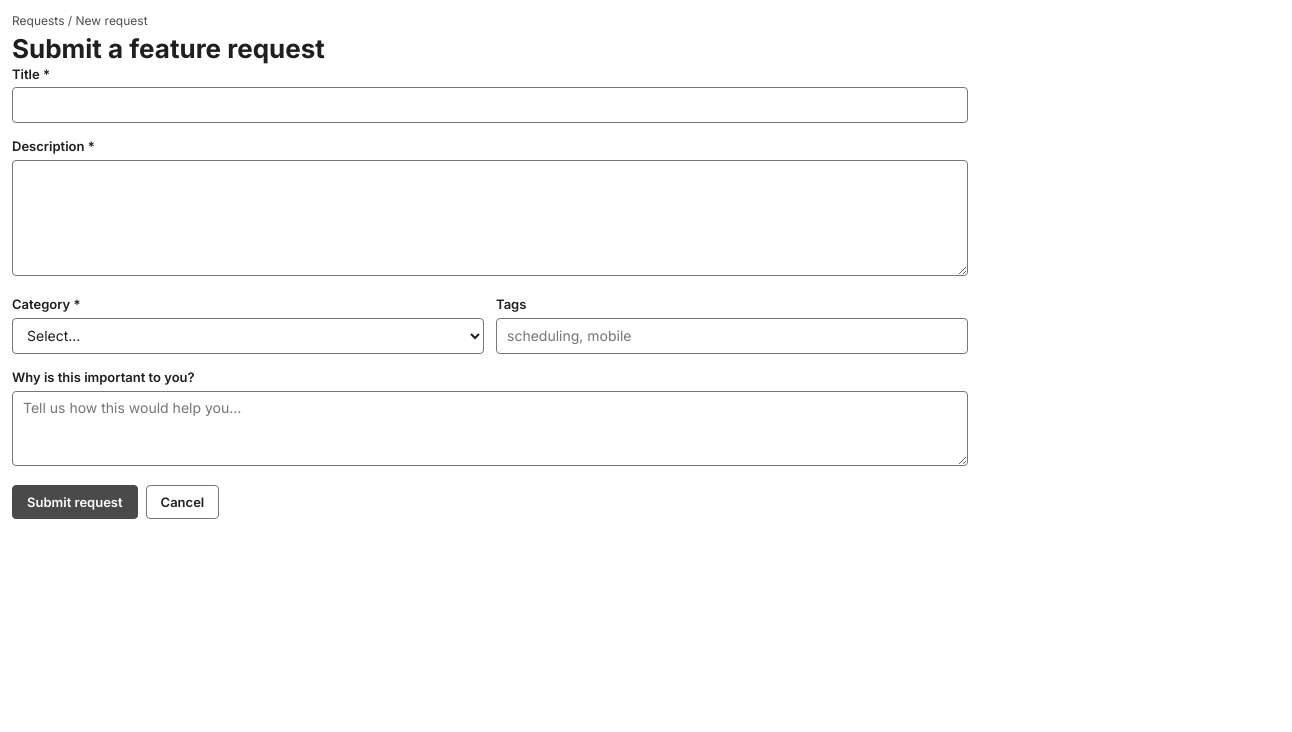
Scenario: Submit a feature request › offers similar requests to vote on instead
Step 1. Type "Schedule my order" into the field labelled "Title *" → (490, 105), box x1=12 y1=87 x2=968 y2=123
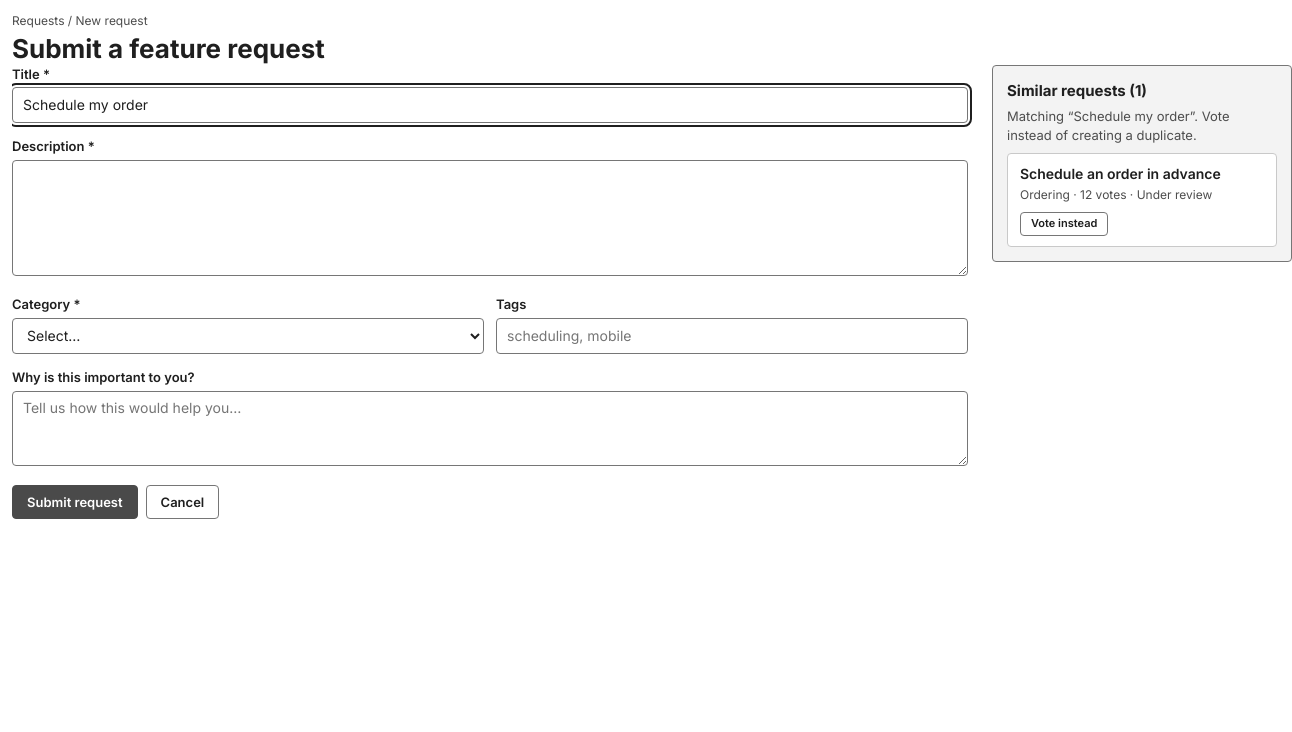
expect the heading "Similar requests (1)" is shown: met, box x1=1007 y1=81 x2=1147 y2=100
expect the button "Vote instead" is shown: met, box x1=1020 y1=212 x2=1108 y2=236
